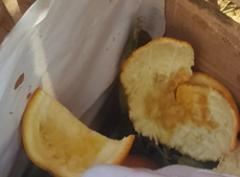organic: (112, 36, 240, 160), (24, 85, 132, 173)
